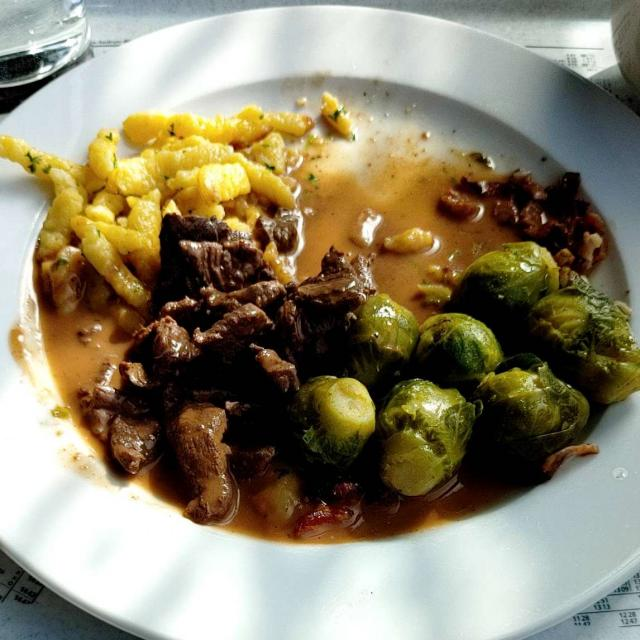beef-cut-into-stripes-only-meat: (76, 231, 364, 535)
brussel-sprouts: (299, 249, 634, 494)
sauce-roast: (39, 164, 521, 537)
spaetzle: (9, 106, 341, 303)
